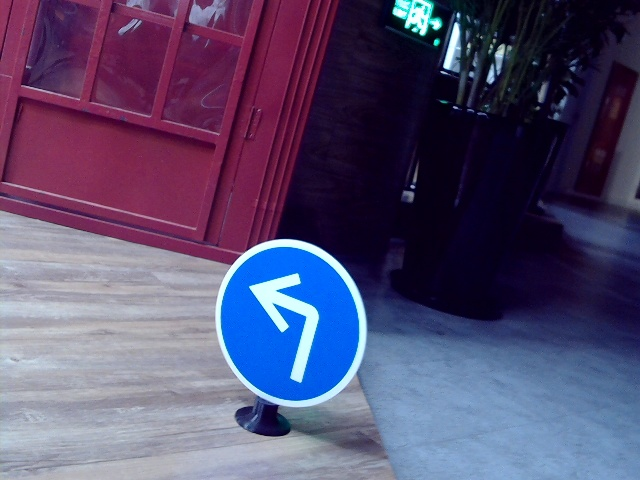turn_left: (245, 265, 329, 382)
